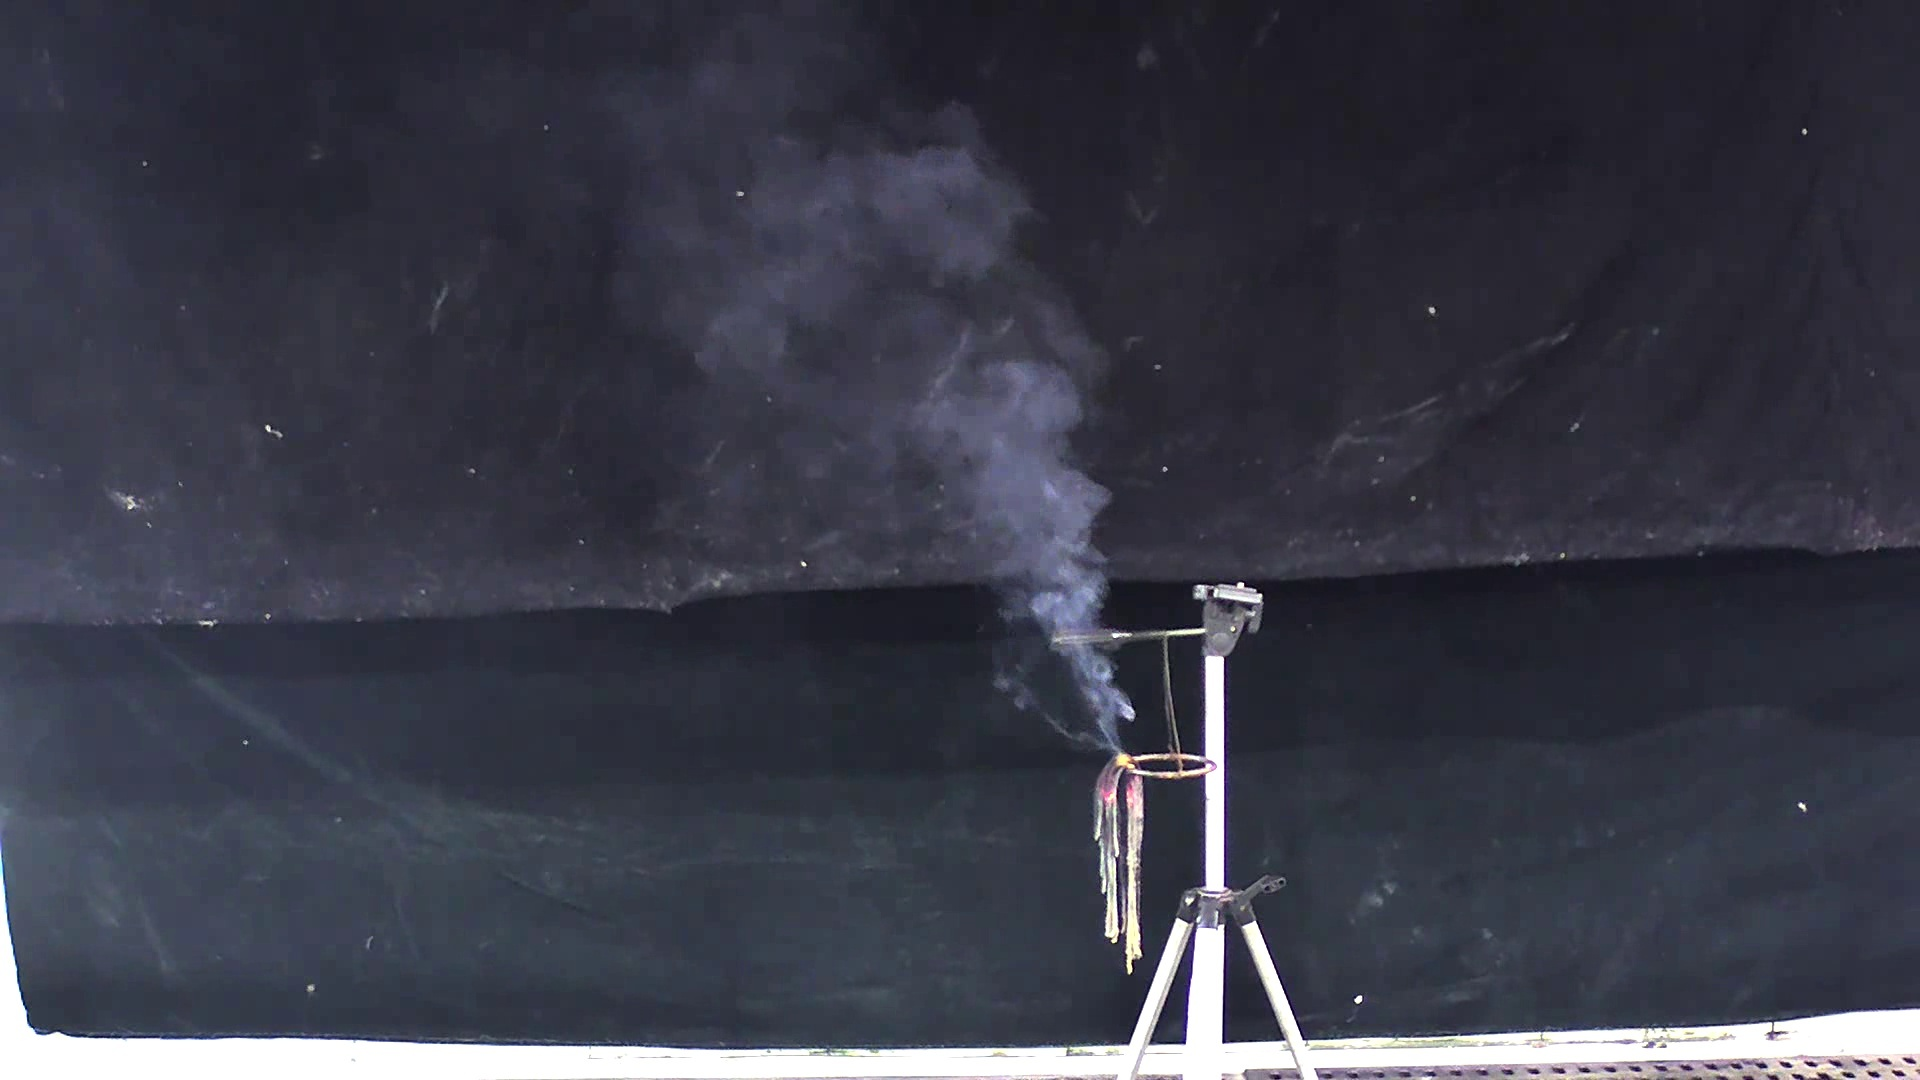smoke: (596, 24, 1135, 761)
